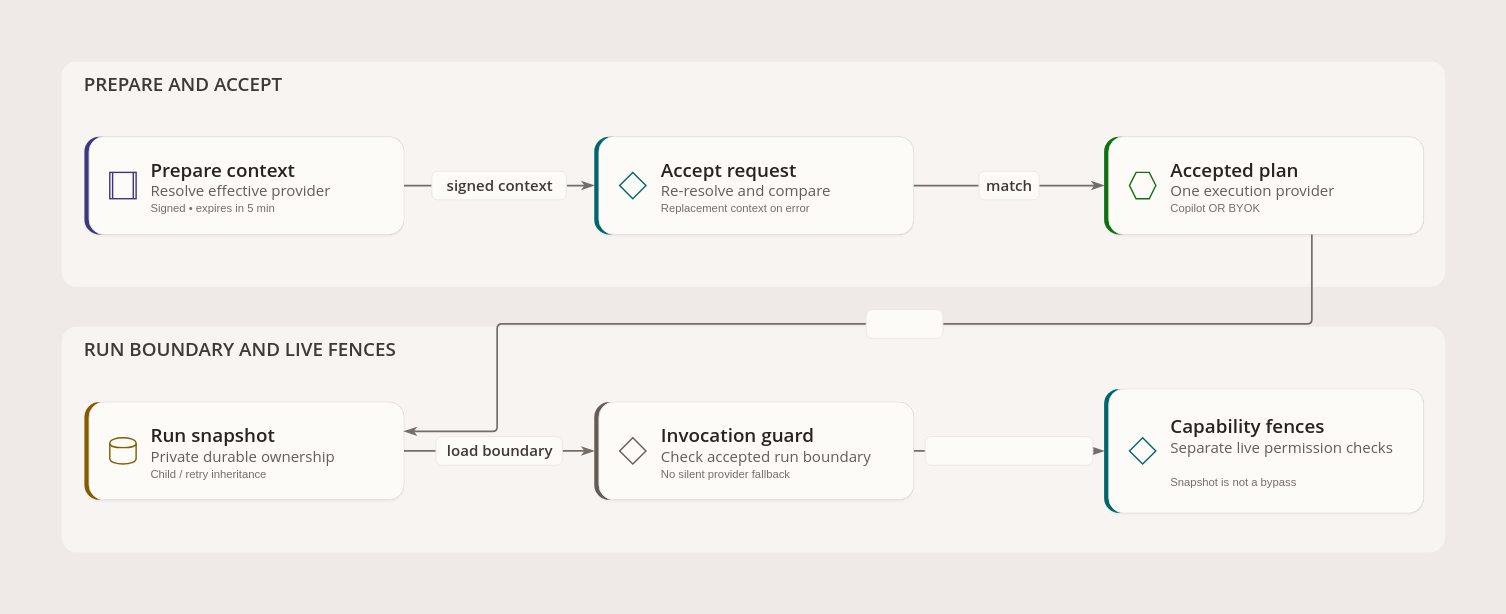
Image size: 1506x614. Some labels were removed from this diagram. The centre of each missing label's shape, as x and y in pixels:
"capture" belongs at (904,323).
"Copilot capability" belongs at (1008,450).
